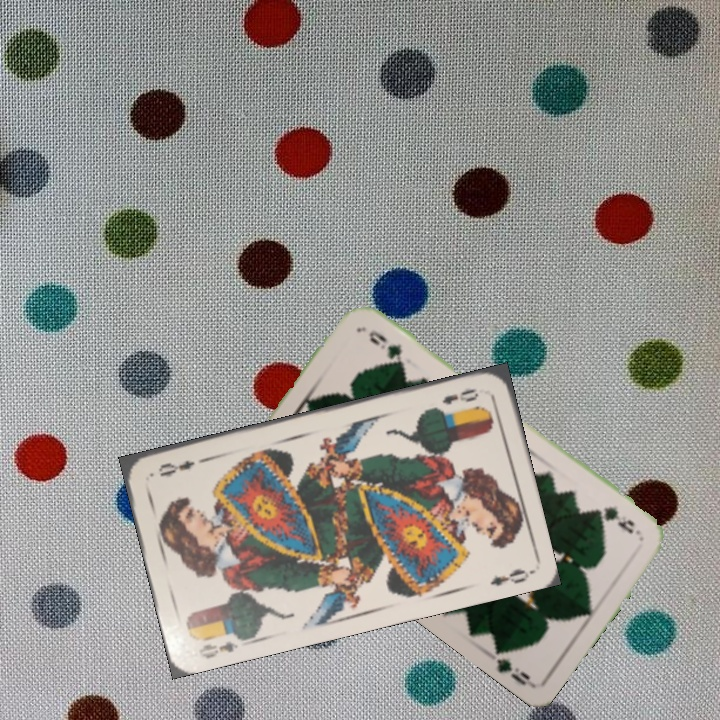EO: (194, 637, 241, 661), (438, 384, 481, 408)
G9: (592, 502, 644, 538)
